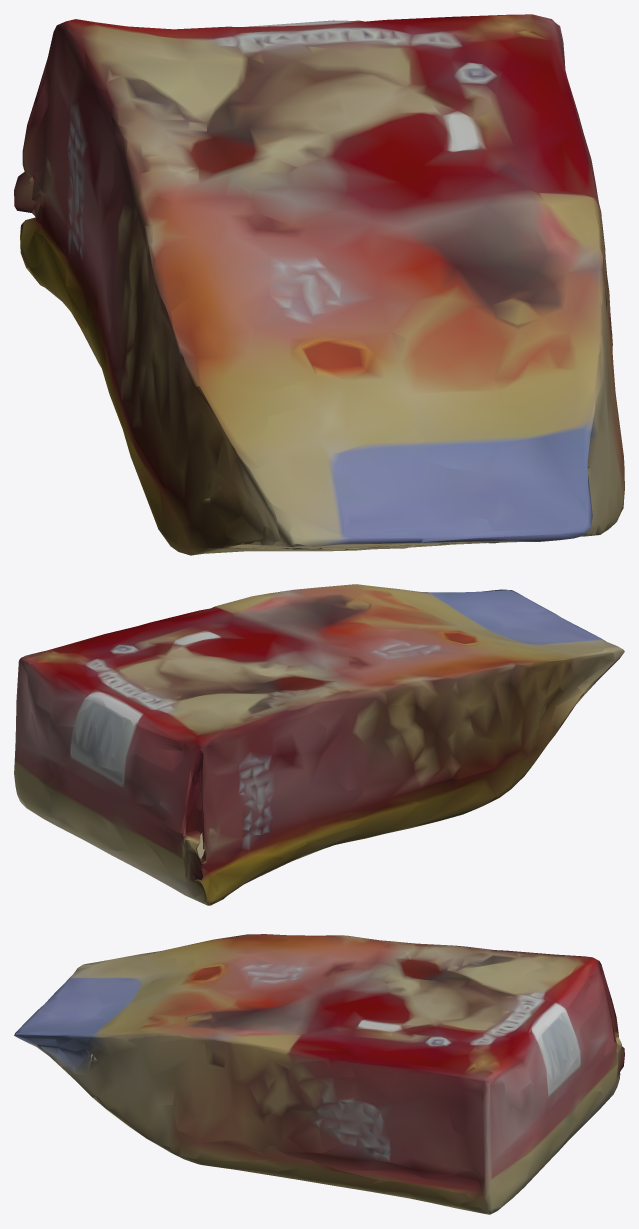
File: 0001_mask_002_red_coffee_box.glb
3 renders of one model, top to bottom at view 1: azimuth 30°, elevation 25°; view 2: azimuth 150°, elevation 25°; view 3: azimuth 270°, elevation 25°, orthographic. The views are drawn at different scales.
Parts seen in each view (by area): view 1: mask_002_object; view 2: mask_002_object; view 3: mask_002_object.
Part boxes in pixels (x1,y1,x2,y2): mask_002_object: (14,14,624,555); mask_002_object: (14,584,624,905); mask_002_object: (14,934,624,1214).
Bounding box in the file's own units: 0.3572 × 0.1444 × 0.5256.
